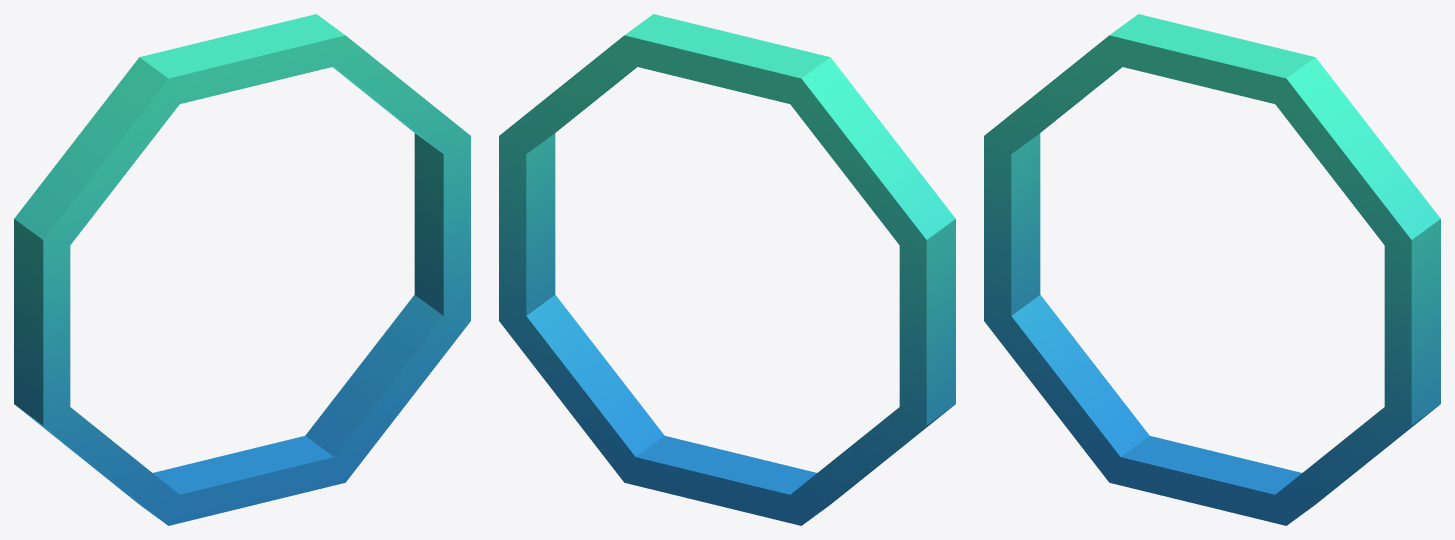
The model's file is Ring.fbx.
3 renders of one model, left to right at view 1: azimuth 30°, elevation 25°; view 2: azimuth 150°, elevation 25°; view 3: azimuth 330°, elevation 25°, orthographic.
Visible parts, largest first — view 1: Ring; view 2: Ring; view 3: Ring.
Part boxes in pixels (x1,y1,x2,y2): Ring: [14, 14, 470, 525]; Ring: [499, 14, 955, 525]; Ring: [984, 14, 1440, 525].
Size of the model in its own units: 2.12 by 2.12 by 0.25.
